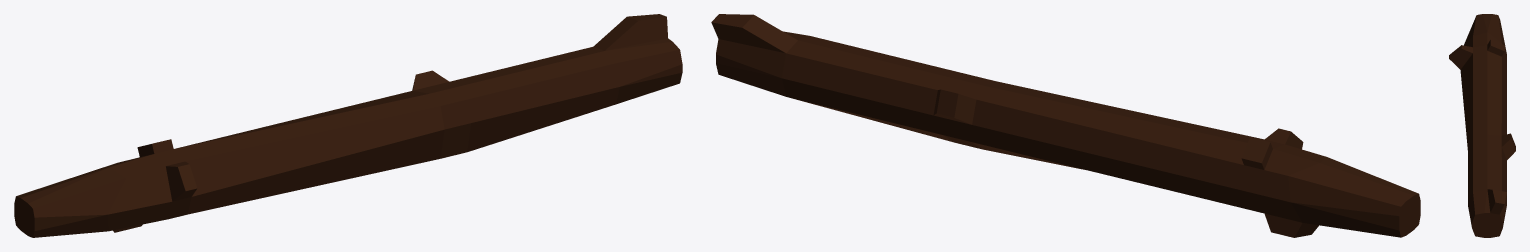
Rendered from Tronco.fbx.
3 renders of one model, left to right at view 1: azimuth 30°, elevation 25°; view 2: azimuth 150°, elevation 25°; view 3: azimuth 270°, elevation 25°, orthographic. The views are drawn at different scales.
Visible parts, largest first — view 1: Tronco:Mesh; view 2: Tronco:Mesh; view 3: Tronco:Mesh.
Part boxes in pixels (box(x1,y1,x2,y2)): Tronco:Mesh: box(14, 14, 682, 237); Tronco:Mesh: box(711, 14, 1420, 237); Tronco:Mesh: box(1449, 14, 1515, 237).
Bounding box in the file's own units: 32.99 × 3.98 × 4.61.
